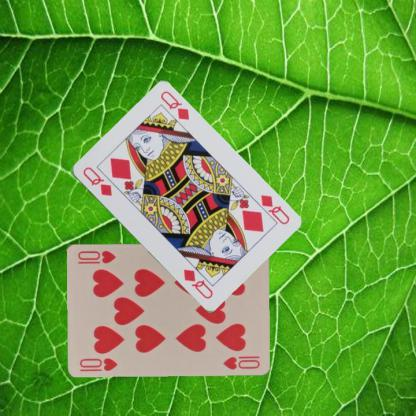10h: (77, 354, 119, 372)
Qd: (250, 192, 291, 226), (80, 164, 113, 198)
